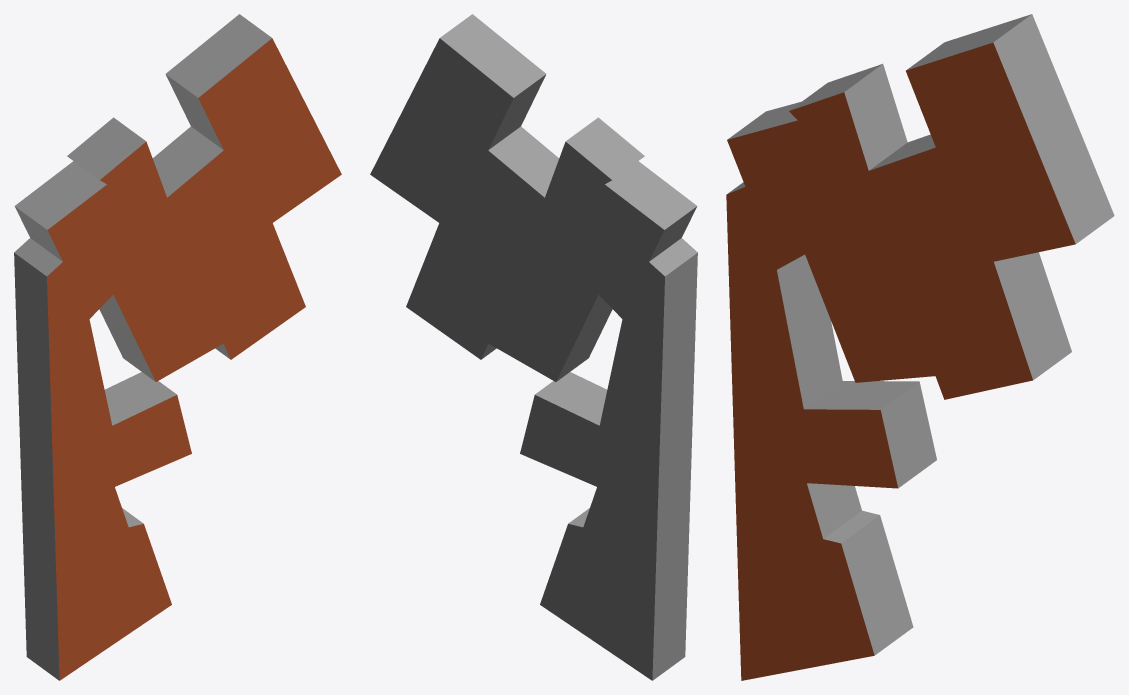
Rendered from construction_2064_assumed_A_Casa_h6m.obj.
3 renders of one model, left to right at view 1: azimuth 30°, elevation 25°; view 2: azimuth 150°, elevation 25°; view 3: azimuth 330°, elevation 25°, orthographic. The views are drawn at different scales.
Visible parts, largest first — view 1: construction_2064_assumed_A_Casa; view 2: construction_2064_assumed_A_Casa; view 3: construction_2064_assumed_A_Casa.
Boxes of the visible parts, <box> form: construction_2064_assumed_A_Casa: <box>14,14,341,680</box>; construction_2064_assumed_A_Casa: <box>370,14,697,680</box>; construction_2064_assumed_A_Casa: <box>726,14,1114,680</box>.
Bounding box in the file's own units: 31.12 × 59.57 × 6.
